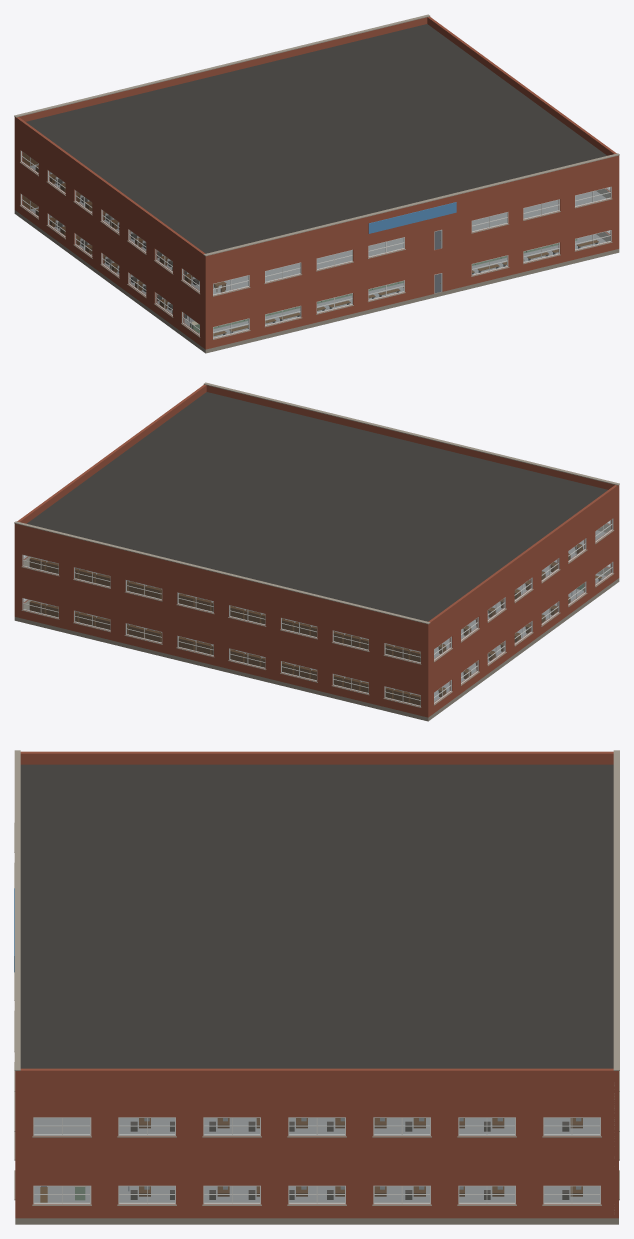
Rendered from customs_house.glb.
3 renders of one model, top to bottom at view 1: azimuth 30°, elevation 25°; view 2: azimuth 150°, elevation 25°; view 3: azimuth 270°, elevation 25°, orthographic. The views are drawn at different scales.
Visible parts, largest first — view 1: LOD0, FURN; view 2: LOD0, FURN; view 3: LOD0, FURN.
Part boxes in pixels (bbox=[...]): LOD0: bbox=[14, 14, 619, 353]; FURN: bbox=[23, 152, 598, 336]; LOD0: bbox=[14, 382, 619, 721]; FURN: bbox=[29, 544, 602, 705]; LOD0: bbox=[14, 750, 619, 1224]; FURN: bbox=[40, 1118, 582, 1202].
Size of what is drawn, in the model's own units: 50.12 by 11.33 by 40.14.
